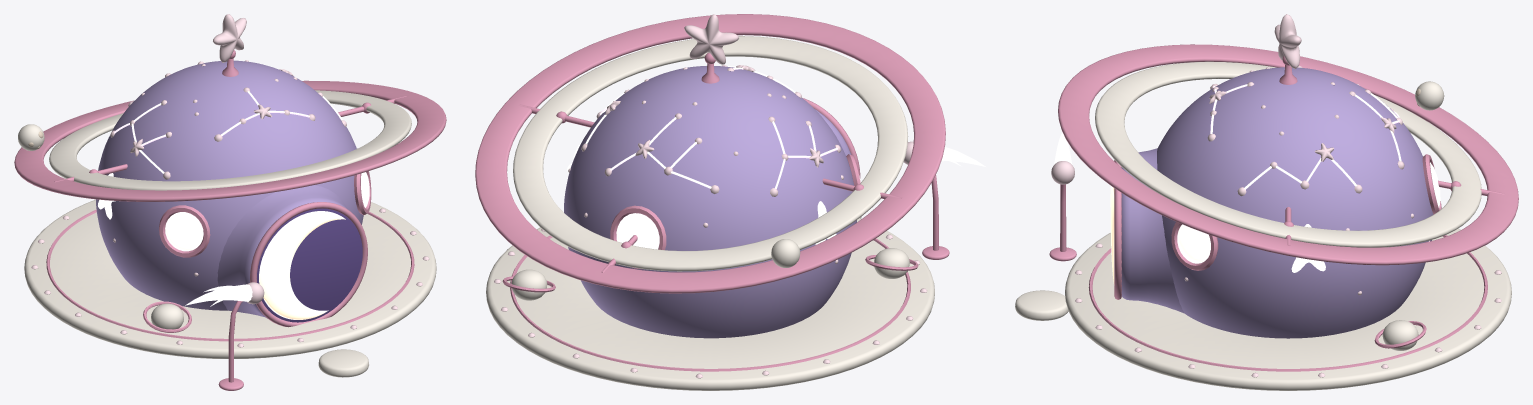
The model's file is house_07_0702.fbx.
3 views of the same model, side by side, from view 1: azimuth 30°, elevation 25°; view 2: azimuth 150°, elevation 25°; view 3: azimuth 270°, elevation 25° (orthographic). The views are drawn at different scales.
Visible parts, largest first — view 1: House07_PlanetDome, House07_RingDeck_Engawa, House07_PlanetRing_Outer, House07_PlanetRing_Inner, House07_MoonDisc, House07_EntrancePod, House07_CrescentDoor, House07_MoonDiscRim, House07_DeckGoldInlay, House07_RoundWindows, House07_WindowRims, House07_MoonStep (+10 smaller); view 2: House07_PlanetDome, House07_RingDeck_Engawa, House07_PlanetRing_Outer, House07_PlanetRing_Inner, House07_DeckGoldInlay, House07_PlanetStools, House07_TopStar, House07_ConstellationLines, House07_RoundWindows, House07_WindowRims, House07_RingSupports, House07_ConstellationDots (+6 smaller); view 3: House07_PlanetDome, House07_RingDeck_Engawa, House07_PlanetRing_Outer, House07_PlanetRing_Inner, House07_EntrancePod, House07_DeckGoldInlay, House07_MoonStep, House07_RoundWindows, House07_WindowRims, House07_TopStar, House07_MoonDiscRim, House07_ConstellationLines (+6 smaller).
Part boxes in pixels (<box>): House07_PlanetDome: <box>96,60,363,310</box>; House07_RingDeck_Engawa: <box>24,199,436,358</box>; House07_PlanetRing_Outer: <box>14,80,446,201</box>; House07_PlanetRing_Inner: <box>49,90,411,190</box>; House07_MoonDisc: <box>257,208,362,322</box>; House07_EntrancePod: <box>217,185,347,318</box>; House07_CrescentDoor: <box>259,211,345,319</box>; House07_MoonDiscRim: <box>250,202,367,327</box>; House07_DeckGoldInlay: <box>46,209,414,341</box>; House07_RoundWindows: <box>165,172,369,251</box>; House07_WindowRims: <box>159,171,371,257</box>; House07_MoonStep: <box>318,349,368,377</box>; House07_PlanetDome: <box>564,66,856,338</box>; House07_RingDeck_Engawa: <box>486,218,934,390</box>; House07_PlanetRing_Outer: <box>475,14,945,293</box>; House07_PlanetRing_Inner: <box>513,36,908,271</box>; House07_DeckGoldInlay: <box>510,235,910,371</box>; House07_PlanetStools: <box>511,248,909,300</box>; House07_TopStar: <box>684,14,738,64</box>; House07_ConstellationLines: <box>585,66,837,188</box>; House07_RoundWindows: <box>616,175,860,249</box>; House07_WindowRims: <box>610,154,860,269</box>; House07_RingSupports: <box>518,104,902,272</box>; House07_ConstellationDots: <box>568,65,843,263</box>; House07_PlanetDome: <box>1157,67,1433,338</box>; House07_RingDeck_Engawa: <box>1065,228,1511,390</box>; House07_PlanetRing_Outer: <box>1058,44,1518,265</box>; House07_PlanetRing_Inner: <box>1095,61,1481,247</box>; House07_EntrancePod: <box>1121,148,1184,313</box>; House07_DeckGoldInlay: <box>1088,235,1487,371</box>; House07_MoonStep: <box>1015,290,1068,320</box>; House07_RoundWindows: <box>1177,162,1440,263</box>; House07_WindowRims: <box>1171,154,1441,270</box>; House07_TopStar: <box>1274,14,1301,68</box>; House07_MoonDiscRim: <box>1114,160,1121,299</box>; House07_ConstellationLines: <box>1210,84,1401,189</box>.
Size of the model in its own units: 5.48 by 3.79 by 5.86.
